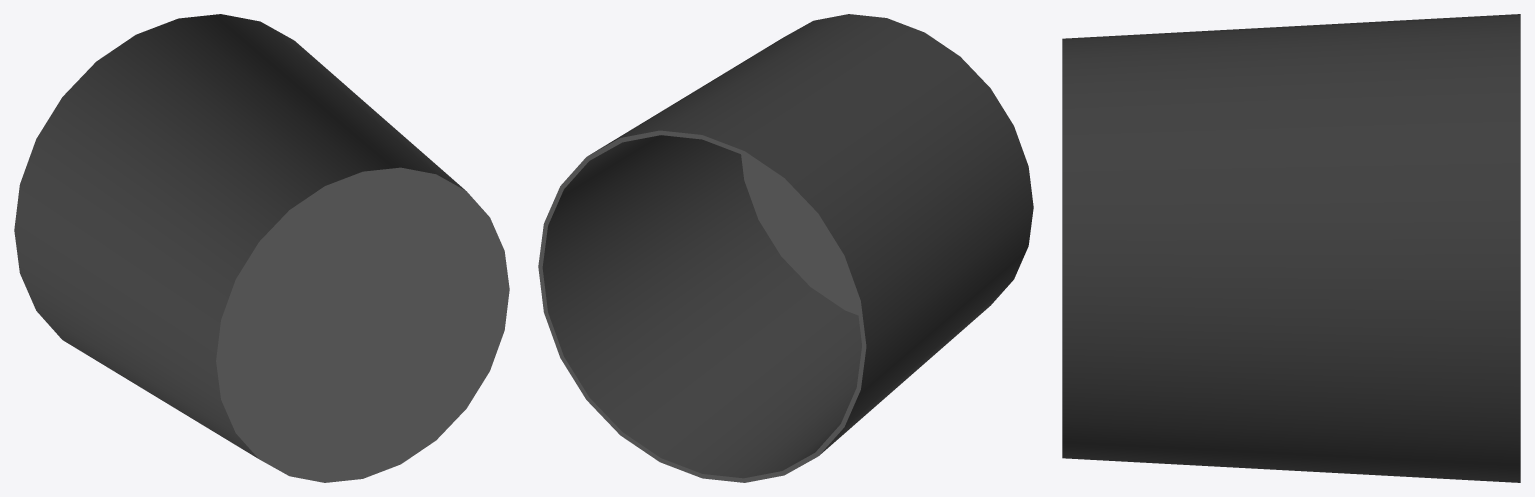
The model's file is WtBkt_GrnRng_8in_5__188012_.obj.
3 renders of one model, left to right at view 1: azimuth 30°, elevation 25°; view 2: azimuth 150°, elevation 25°; view 3: azimuth 270°, elevation 25°, orthographic. The views are drawn at different scales.
Parts seen in each view (by area): view 1: WtBkt_GrnRng_8in_5__188012__temp_WtBkt_GrnRng_8in_5__188012_.004; view 2: WtBkt_GrnRng_8in_5__188012__temp_WtBkt_GrnRng_8in_5__188012_.004; view 3: WtBkt_GrnRng_8in_5__188012__temp_WtBkt_GrnRng_8in_5__188012_.004.
Part boxes in pixels (bbox=[...]): WtBkt_GrnRng_8in_5__188012__temp_WtBkt_GrnRng_8in_5__188012_.004: bbox=[14, 14, 509, 482]; WtBkt_GrnRng_8in_5__188012__temp_WtBkt_GrnRng_8in_5__188012_.004: bbox=[538, 14, 1033, 482]; WtBkt_GrnRng_8in_5__188012__temp_WtBkt_GrnRng_8in_5__188012_.004: bbox=[1062, 14, 1520, 482].
Bounding box in the file's own units: 0.1206 × 0.1207 × 0.1175.
Materials: 1 (1 with a texture image).
